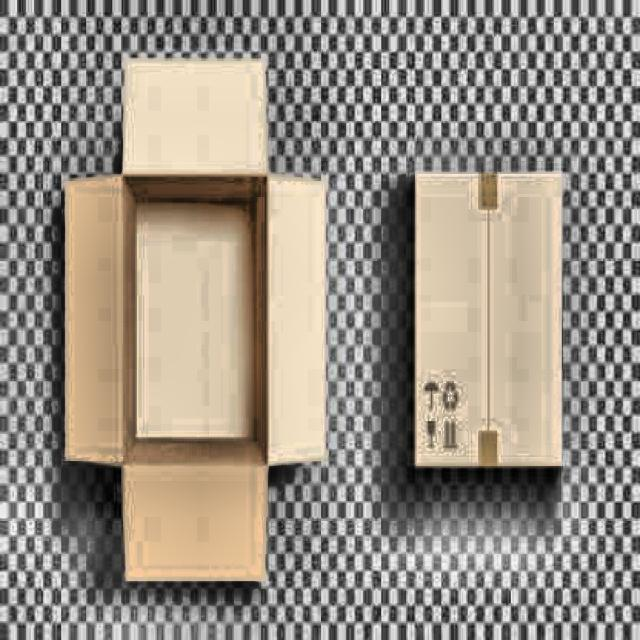Cardbox: (62, 34, 336, 601), (396, 135, 598, 510)
